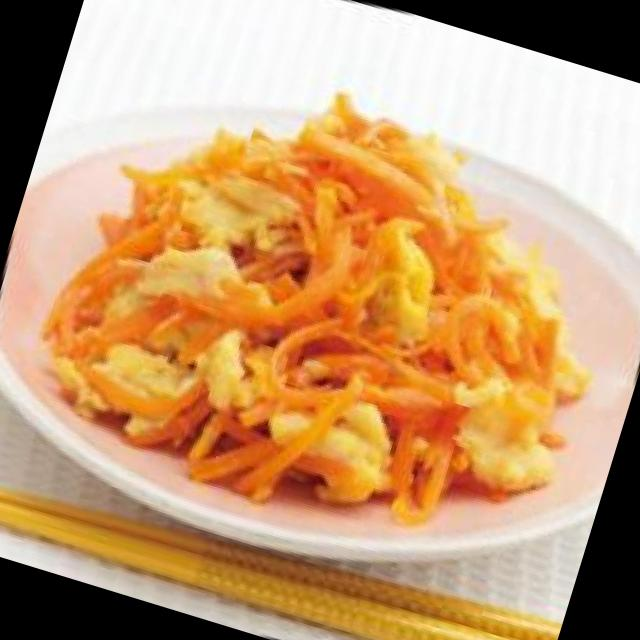carrot_eggs: (9, 23, 640, 595)
